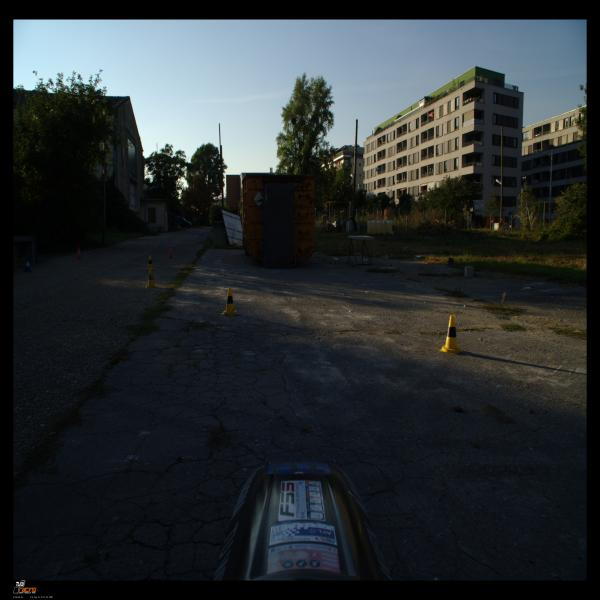blue_cone: (23, 256, 34, 272)
orange_cone: (76, 247, 82, 260), (168, 246, 174, 258)
yellow_cone: (439, 315, 463, 354), (220, 287, 238, 316), (144, 268, 157, 288), (146, 256, 156, 270)
